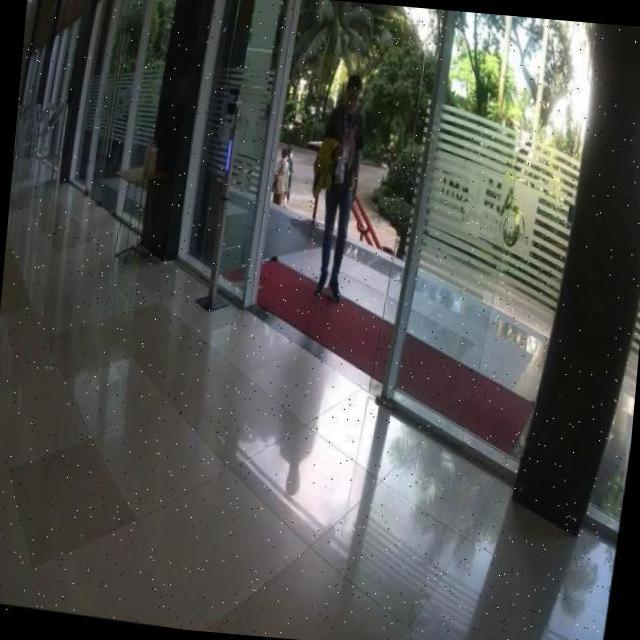person: (304, 72, 374, 304)
